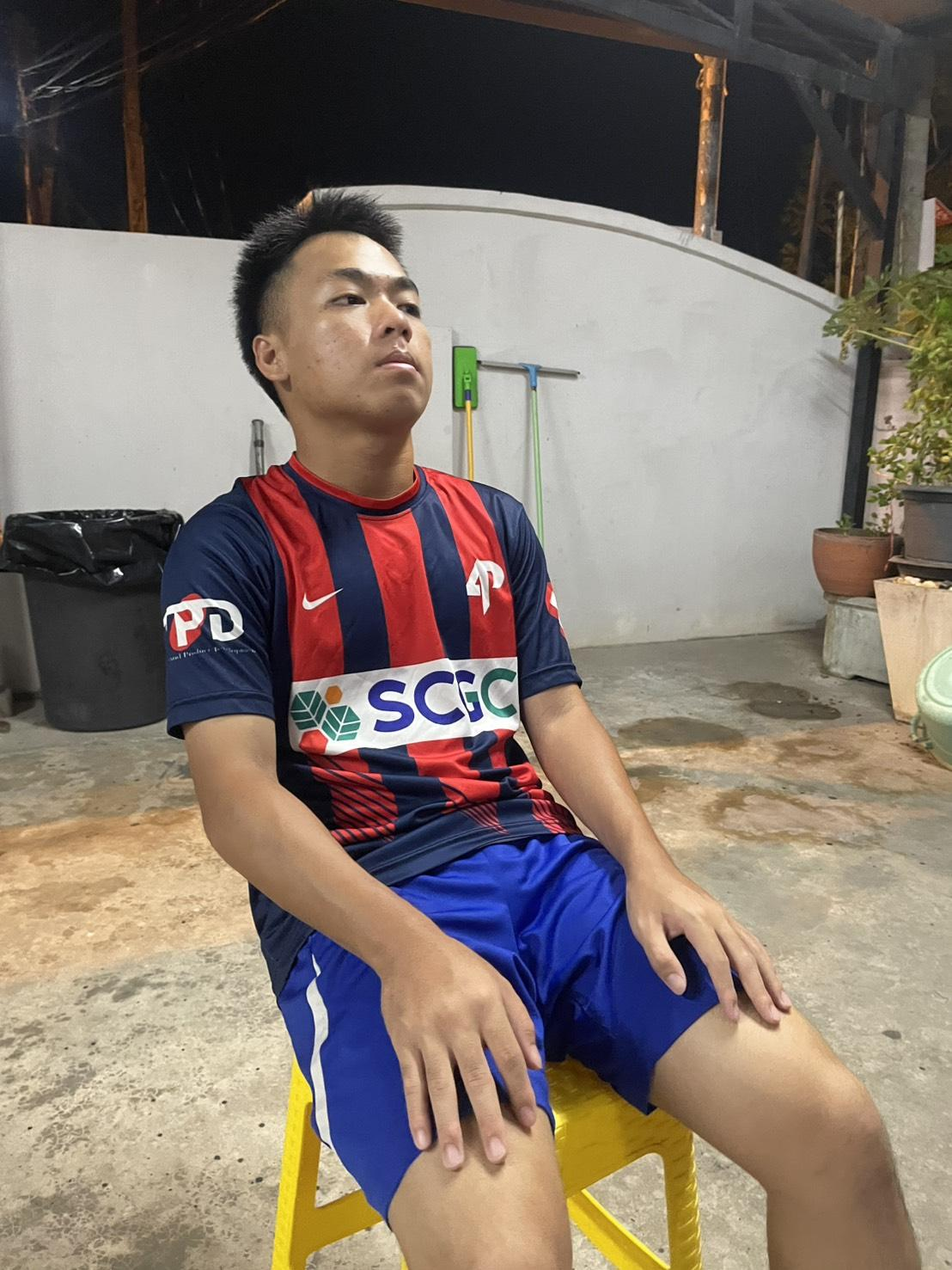BadPosture: (167, 191, 725, 937)
